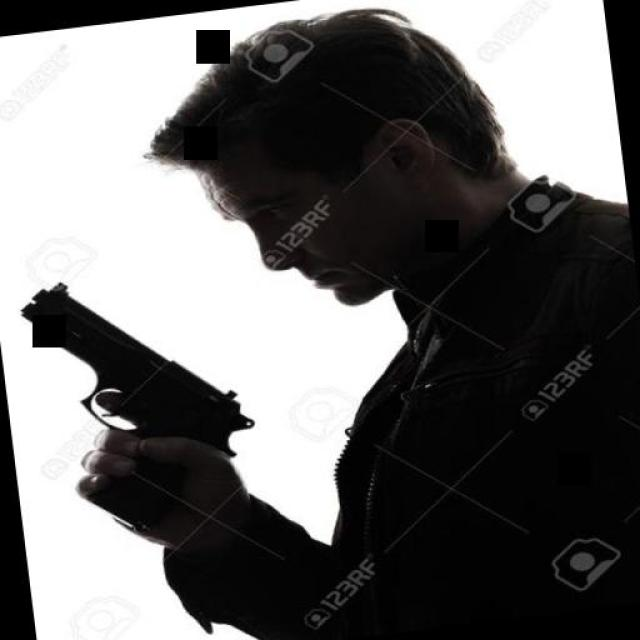gun: (2, 256, 274, 542)
